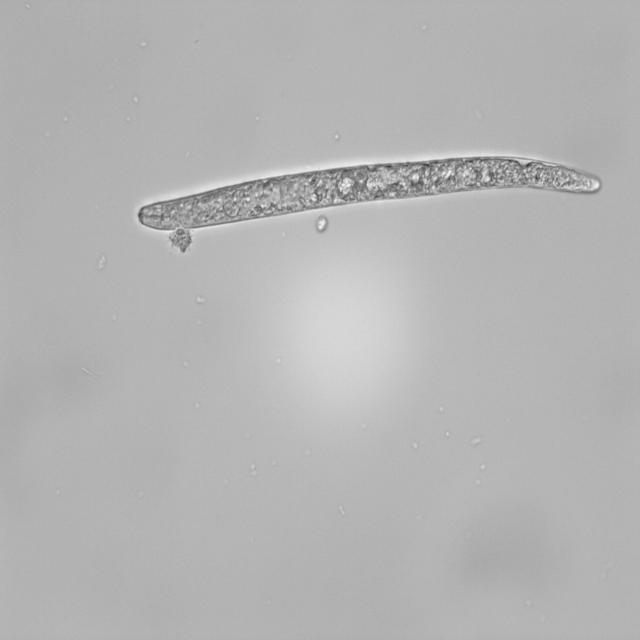Pratylenchus: (112, 146, 607, 234)
